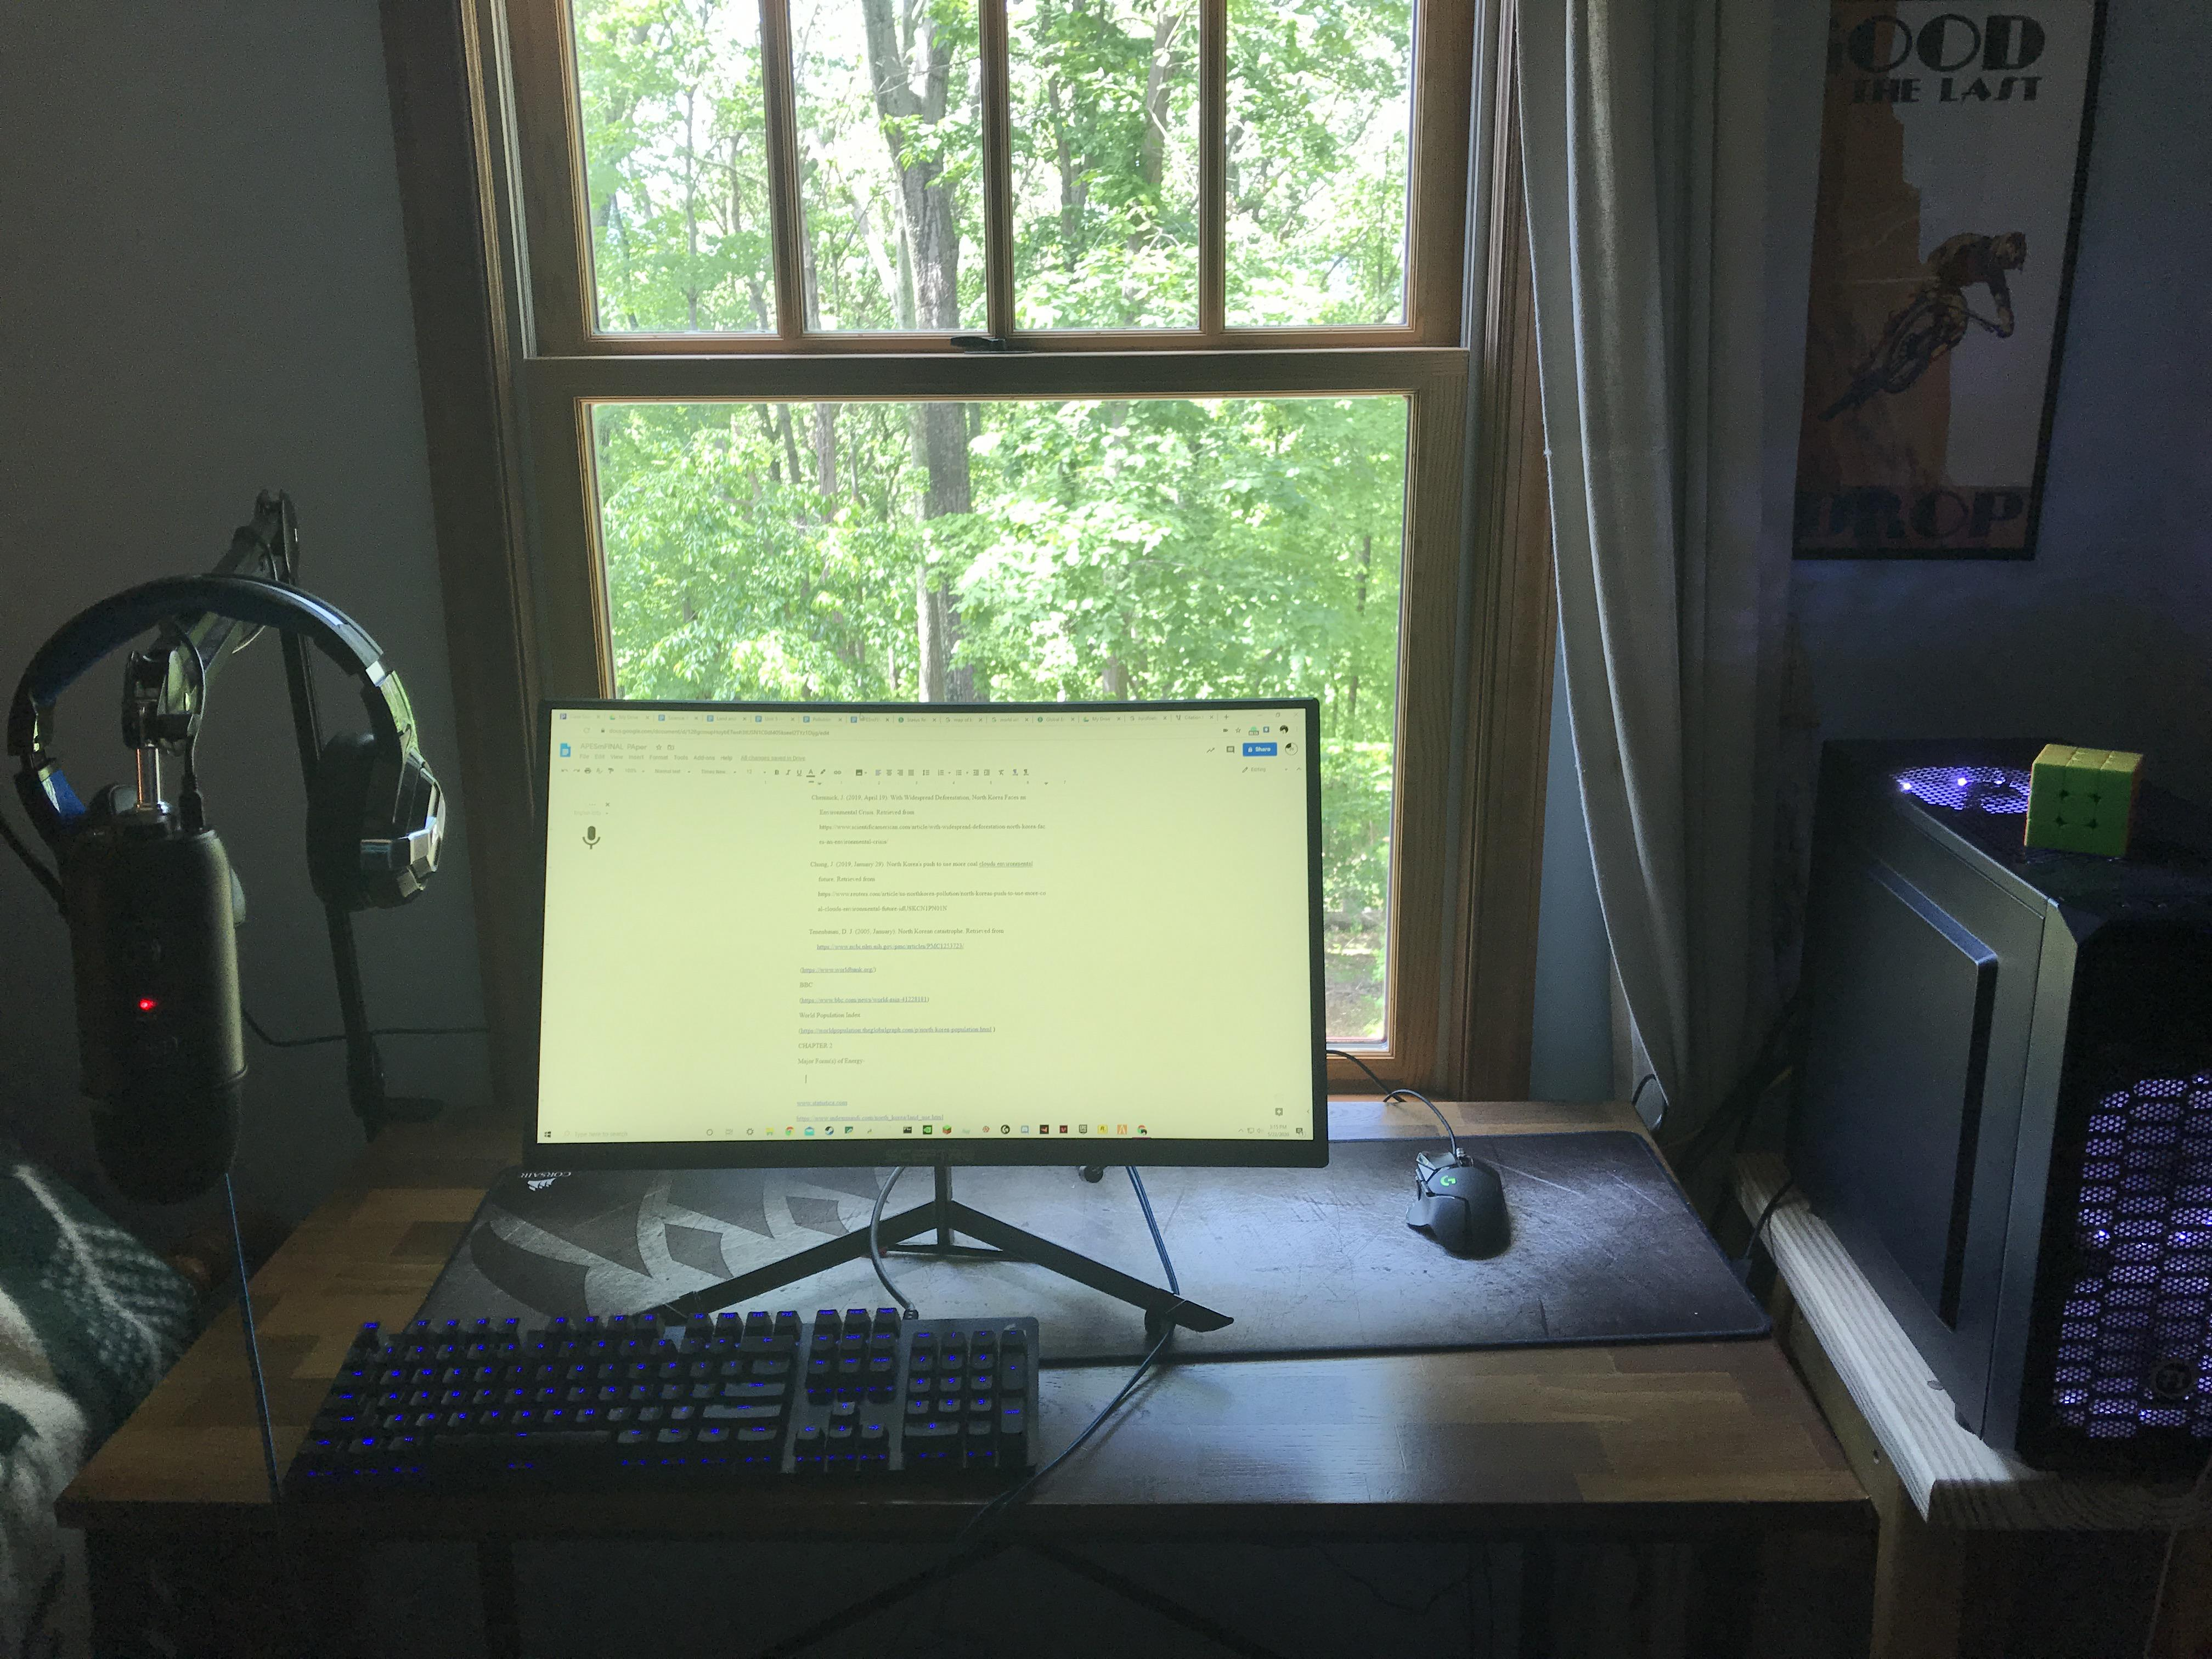Decoration (Generic): (1804, 0, 2097, 589)
Desk (Generic): (49, 1089, 1930, 1617)
Desktop (Windows): (1759, 716, 2212, 1466)
External Microphone (with Boom Arm): (56, 441, 446, 1267)
Headphones: (0, 528, 456, 950)
Keyboard (Gaming): (273, 1295, 1076, 1516)
Monitor (Landscape): (491, 678, 1353, 1192)
Mouse (Gaming): (1371, 1143, 1533, 1283)
Mousepad (Gaming): (404, 1134, 1778, 1359)
